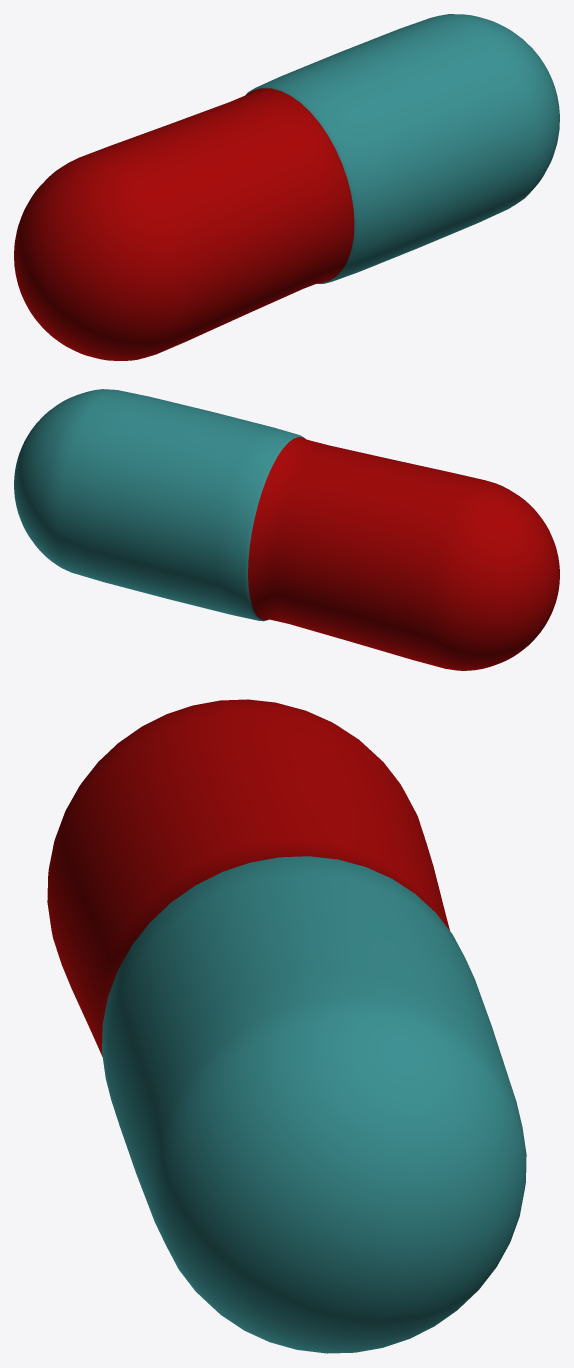
3 renders of one model, top to bottom at view 1: azimuth 30°, elevation 25°; view 2: azimuth 150°, elevation 25°; view 3: azimuth 270°, elevation 25°, orthographic. The views are drawn at different scales.
Visible parts, largest first — view 1: capsule.001; view 2: capsule.001; view 3: capsule.001.
Part boxes in pixels (left/top/right/bottom): capsule.001: left=14, top=14, right=559, bottom=360; capsule.001: left=14, top=389, right=559, bottom=670; capsule.001: left=47, top=699, right=526, bottom=1353.
Bounding box in the file's own units: 2.44 × 0.9356 × 1.02.
